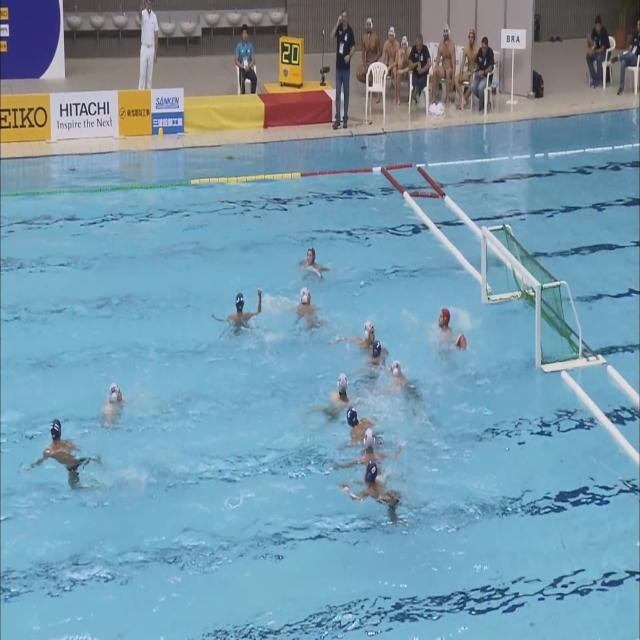ball: (456, 334, 467, 349)
